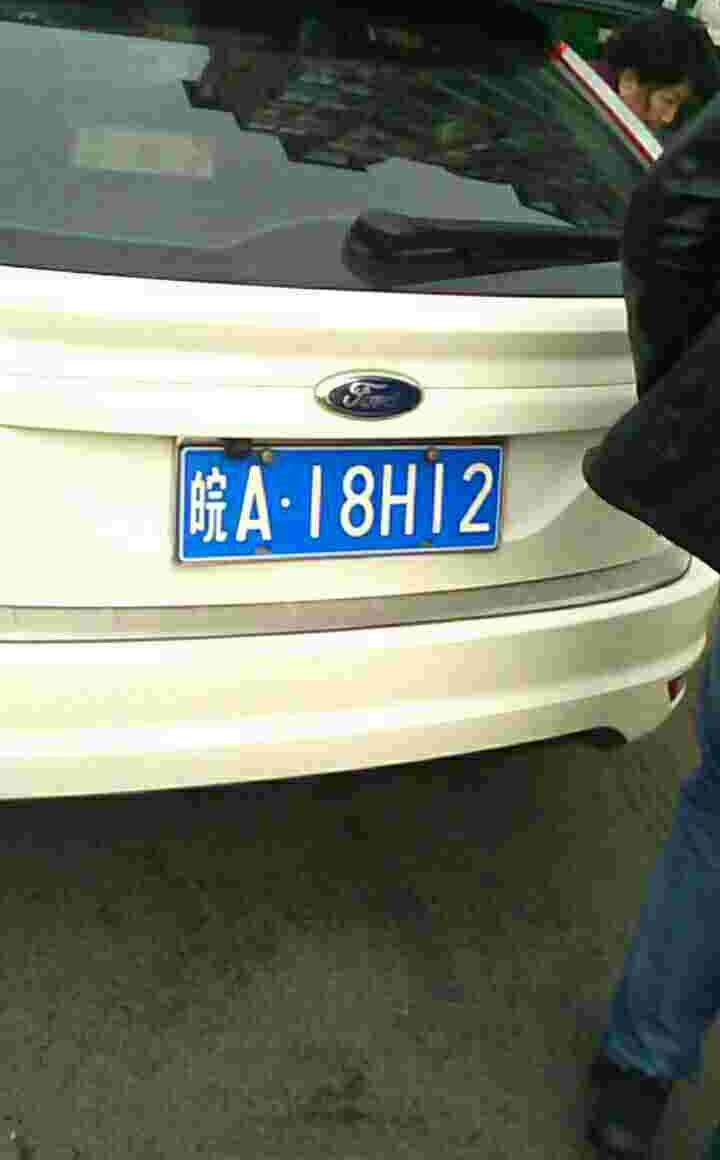license_plate: (190, 442, 508, 562)
